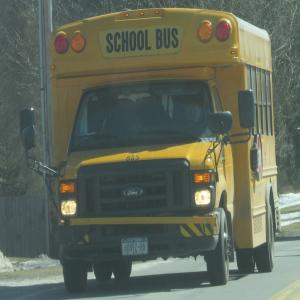Vehicle-registration-plate: (123, 238, 149, 258)
